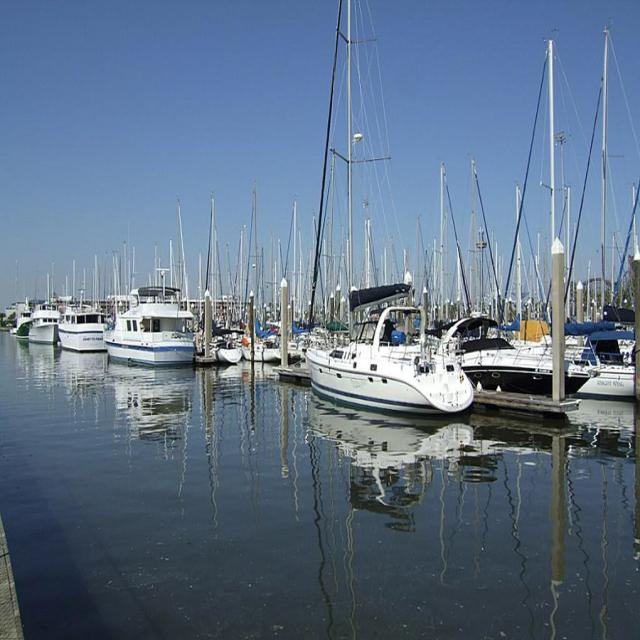houseboat: (310, 300, 485, 426), (102, 292, 198, 384), (62, 297, 105, 373), (23, 289, 59, 346)
